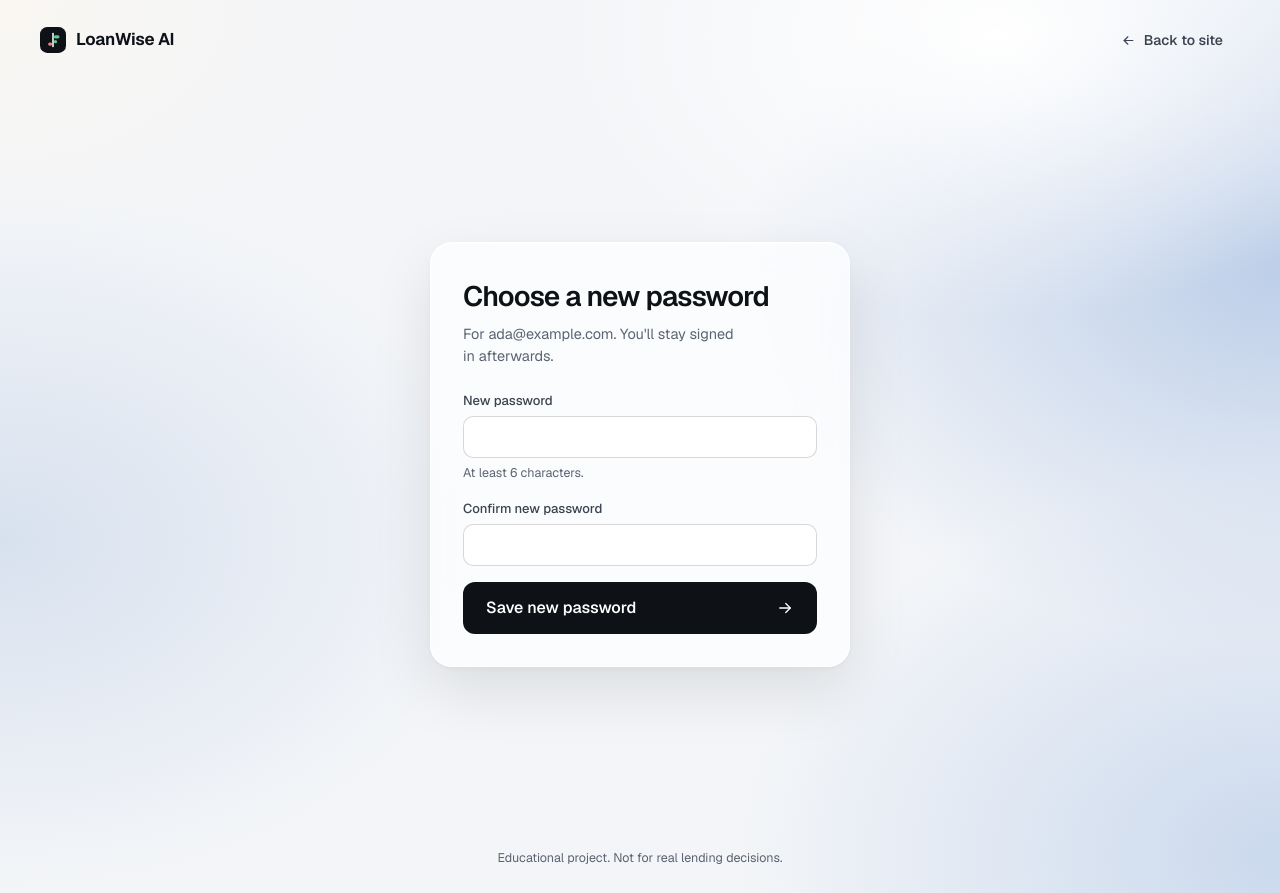
Scenario: reset password › saves the new password and opens the app
Type "secret123" into the password field labelled "New password".
click(640, 437); type("secret123")  # box [463,416,817,458]
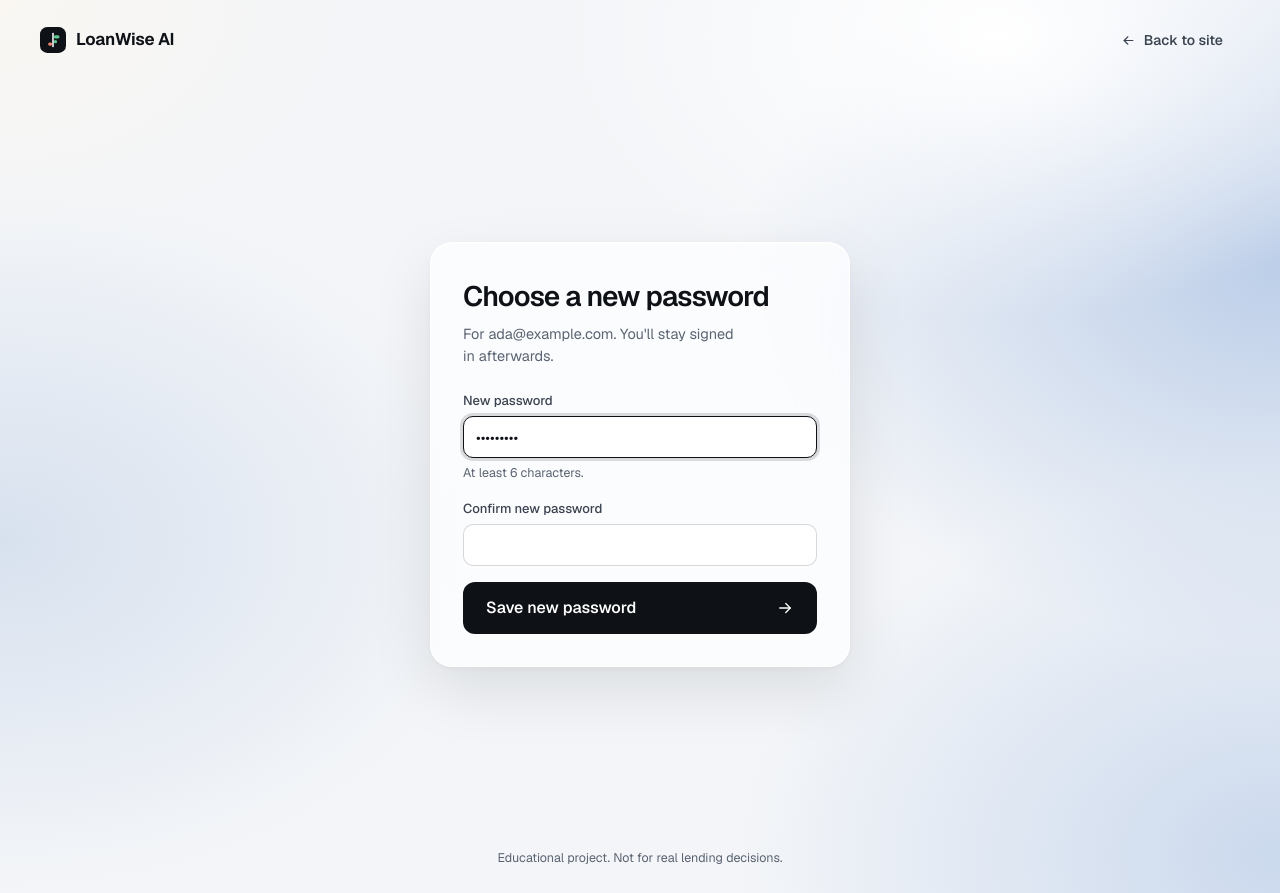
Type "secret123" into the password field labelled "Confirm new password".
click(640, 545); type("secret123")  # box [463,524,817,566]
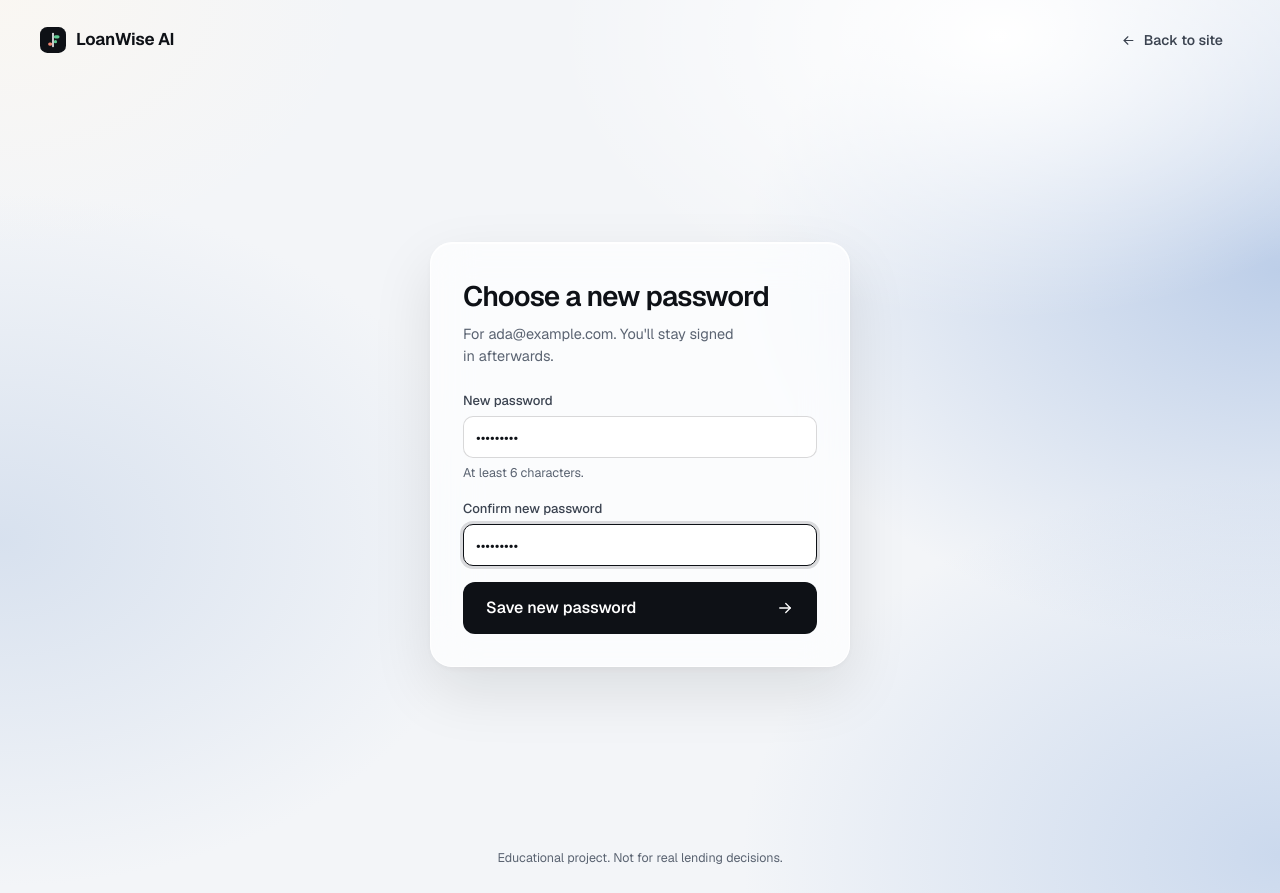
Click the button "Save new password".
click(561, 608)  # box [463,582,817,634]
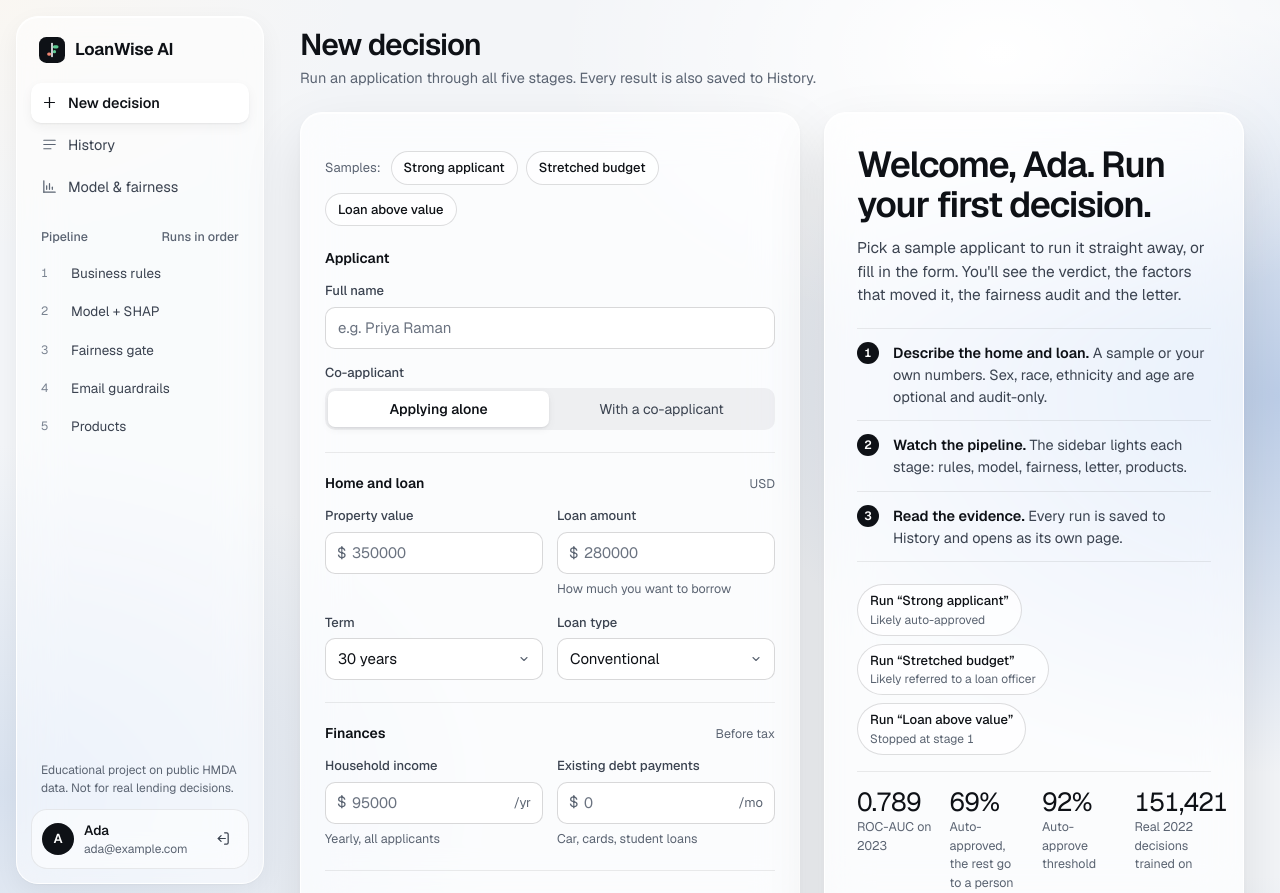
Check: the heading "New decision" is shown, box [300,25,481,64]
